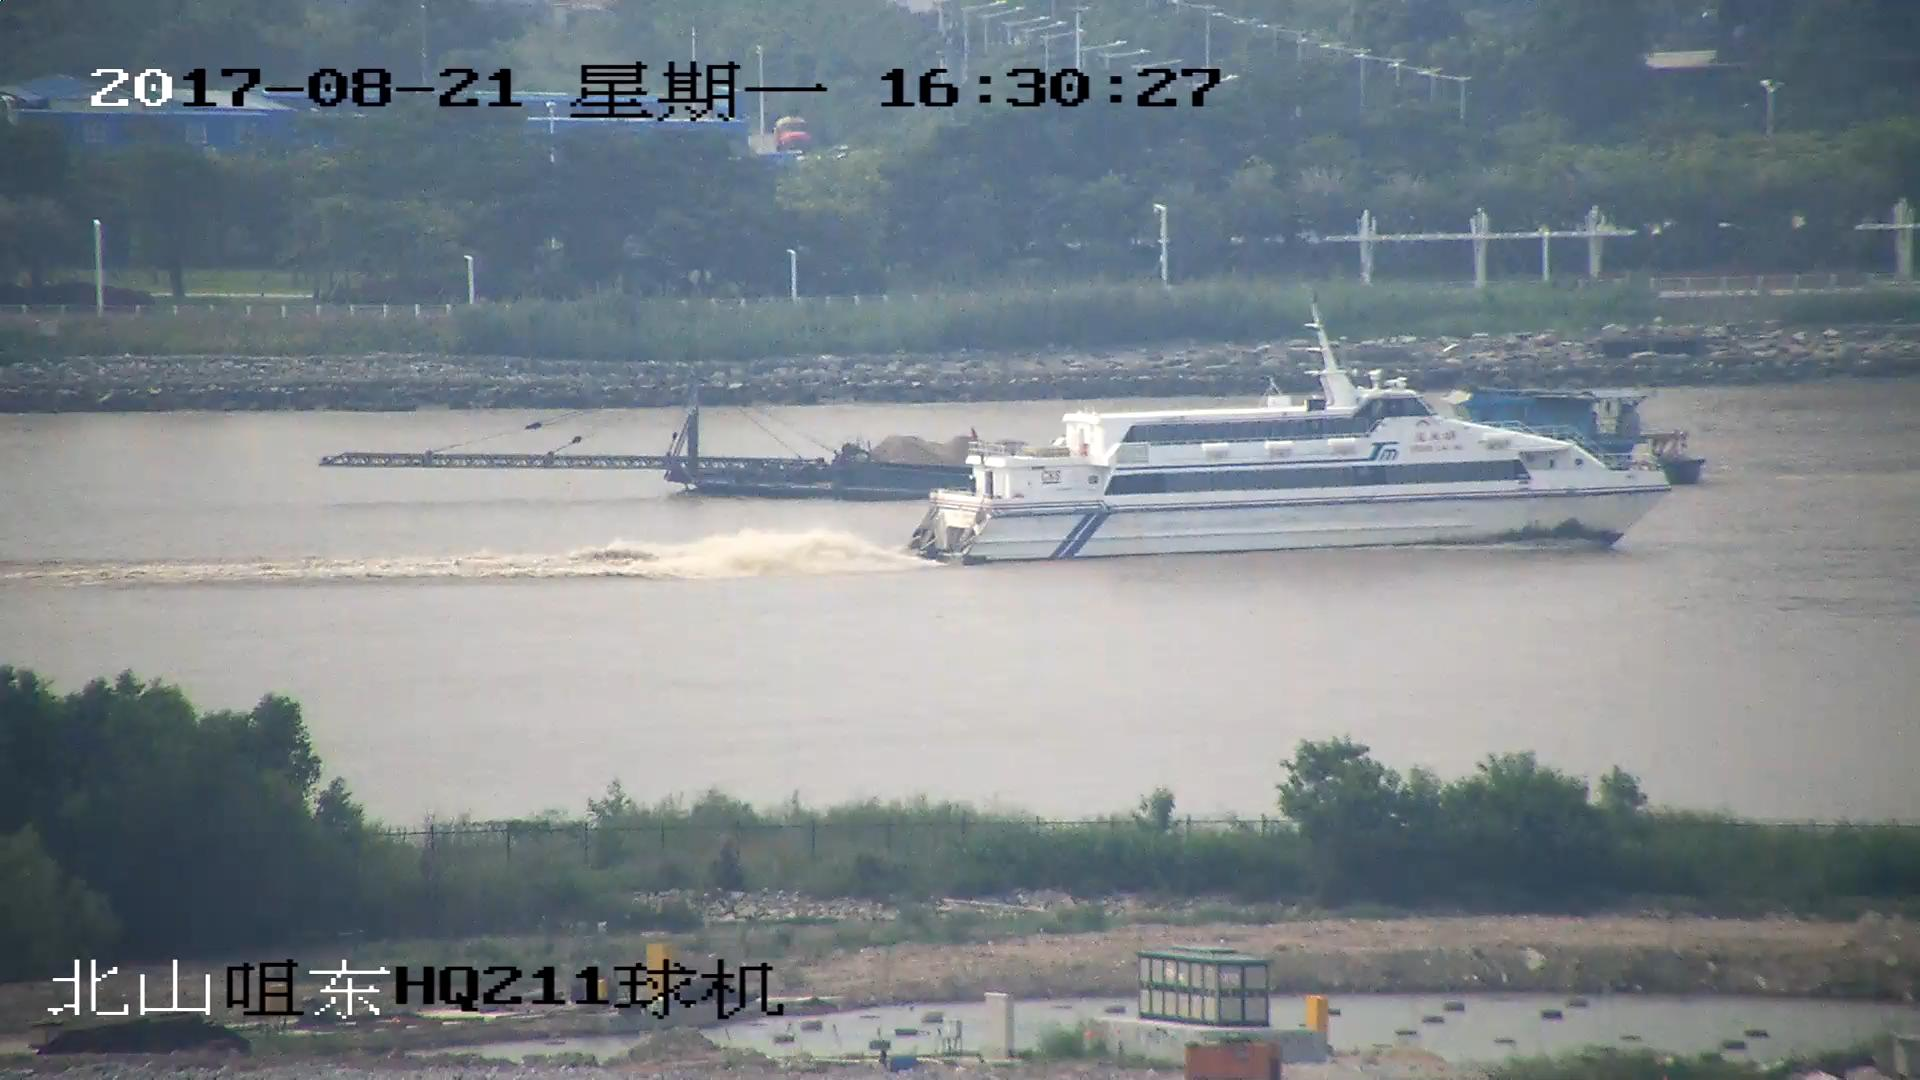ore carrier: (329, 380, 1708, 493)
passenger ship: (908, 318, 1672, 565)
